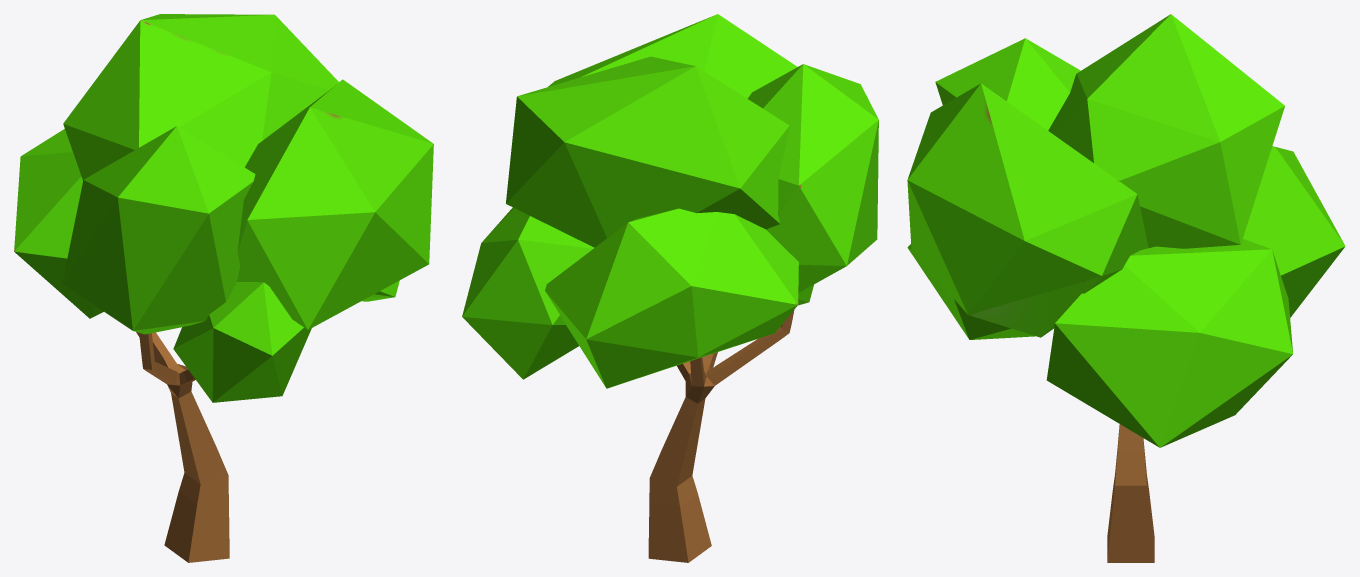
Rendered from Tree 1.fbx.
3 views of the same model, side by side, from view 1: azimuth 30°, elevation 25°; view 2: azimuth 150°, elevation 25°; view 3: azimuth 270°, elevation 25° (orthographic). The views are drawn at different scales.
Parts seen in each view (by area): view 1: Tree; view 2: Tree; view 3: Tree.
Boxes of the visible parts, x1,y1,x2,y2 form: Tree: [14, 14, 433, 562]; Tree: [462, 14, 878, 562]; Tree: [907, 14, 1345, 562].
Size of the model in its own units: 790 by 1173 by 893.
